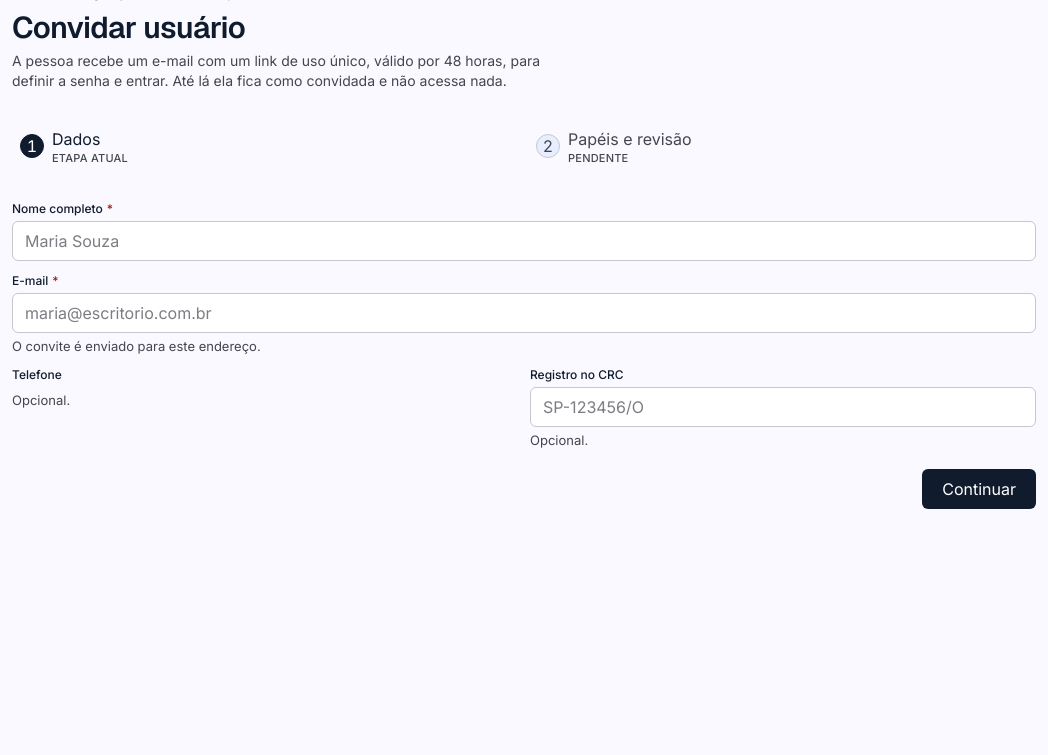
it: etapa 2 — Papéis e revisão › Voltar mantém o que foi digitado
This screenshot has width=1048, height=755.
In the field labelled "Nome completo*": (524, 241) [12,221,1036,261], type "Ana Souza"
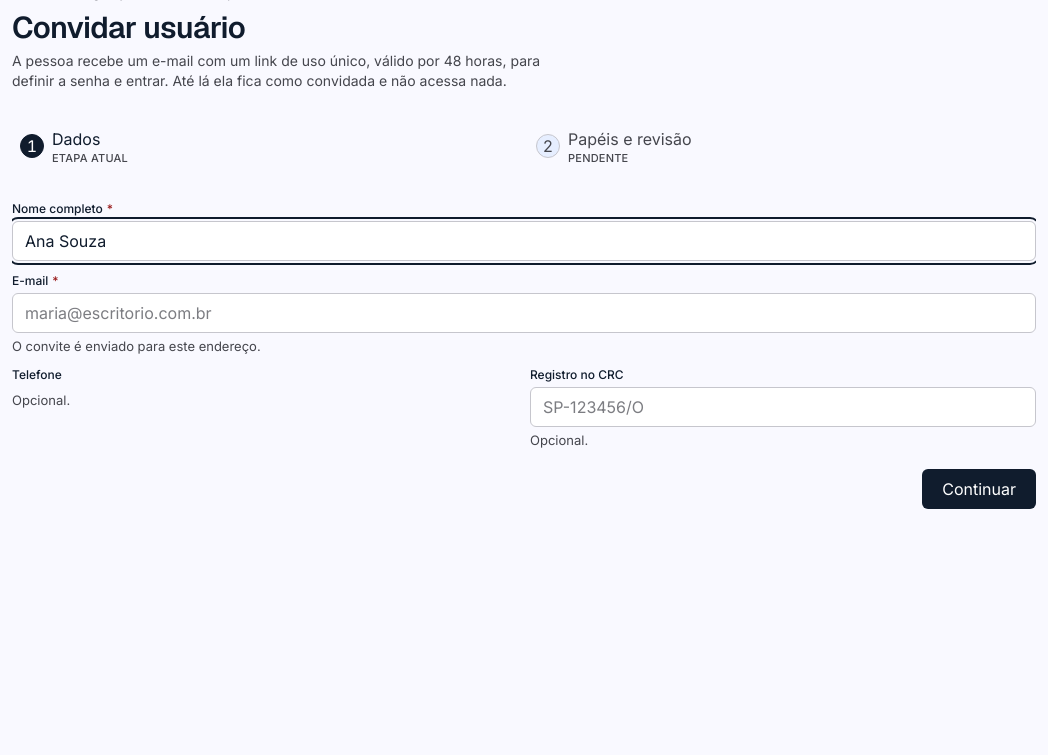
In the field labelled "E-mail*": (524, 313) [12,293,1036,333], type "ana@escritorio.com"
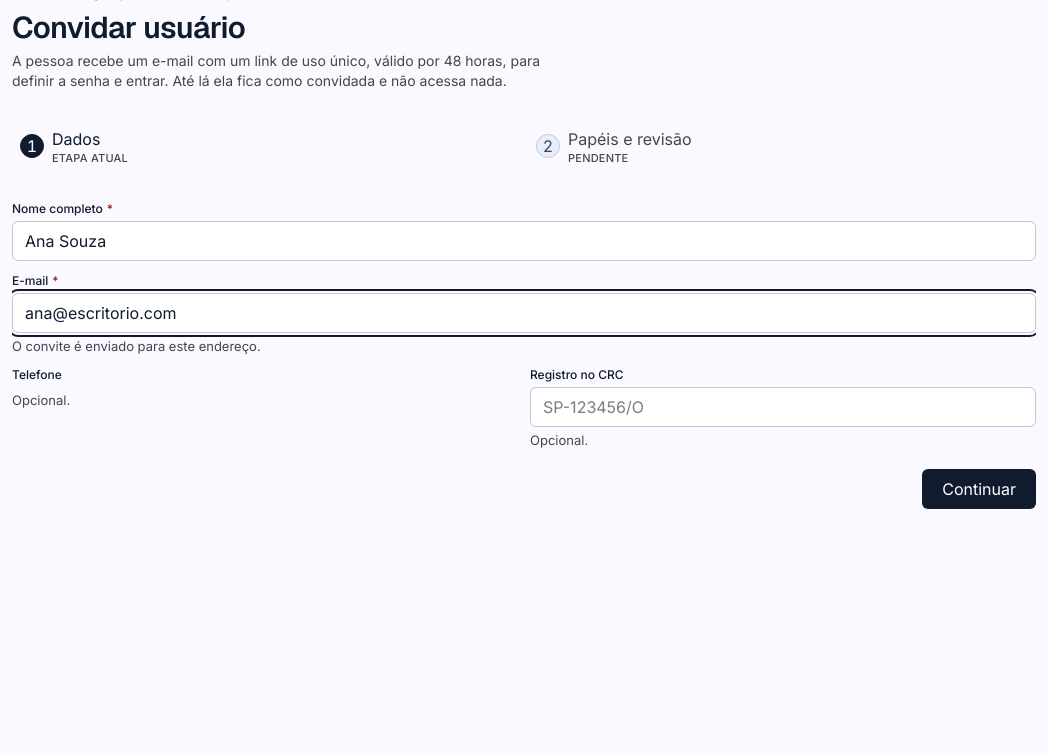
Click the button "Continuar": (979, 489) [922,469,1036,509]
(page scrolled)
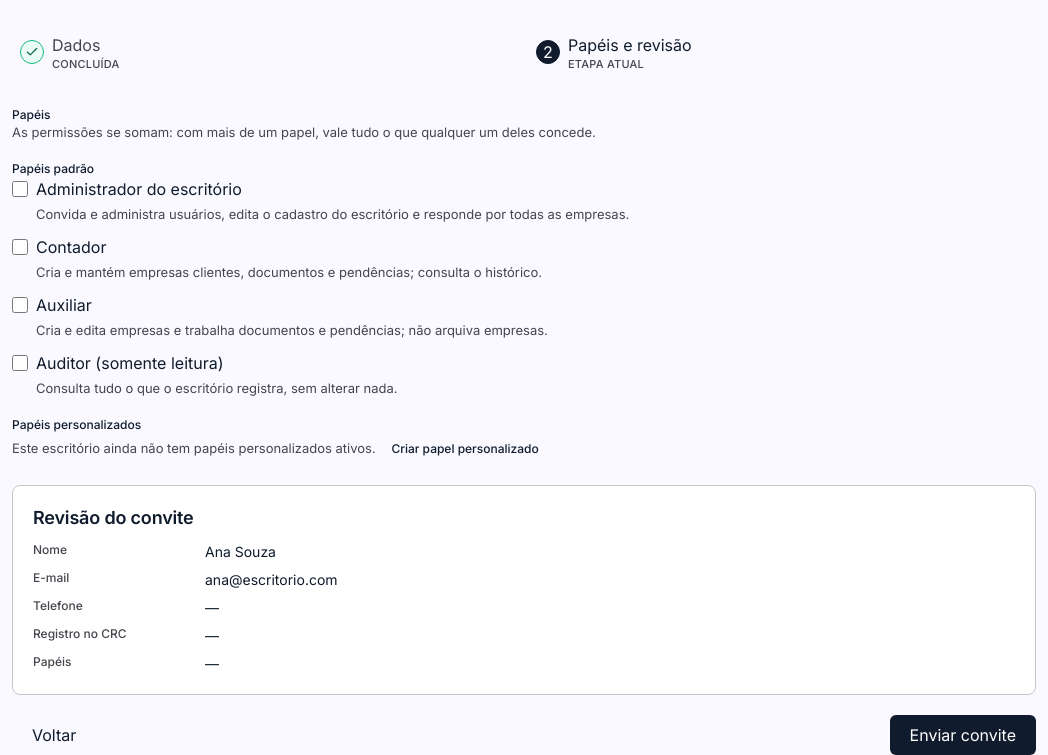
Expected: the element "Papéis" is shown, [12,107,629,456]
Click the button "Voltar": (54, 735) [12,715,96,754]
(page scrolled)
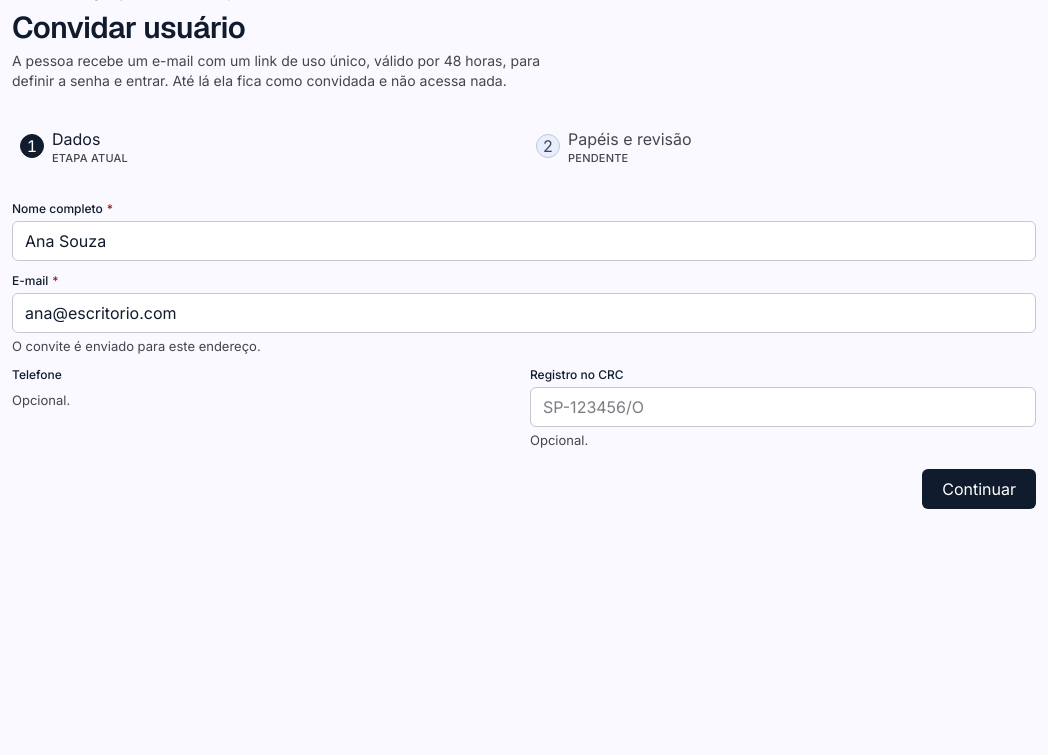
Expected: the field labelled "Nome completo*" holds "Ana Souza", [12,221,1036,261]
Expected: the field labelled "E-mail*" holds "ana@escritorio.com", [12,293,1036,333]
